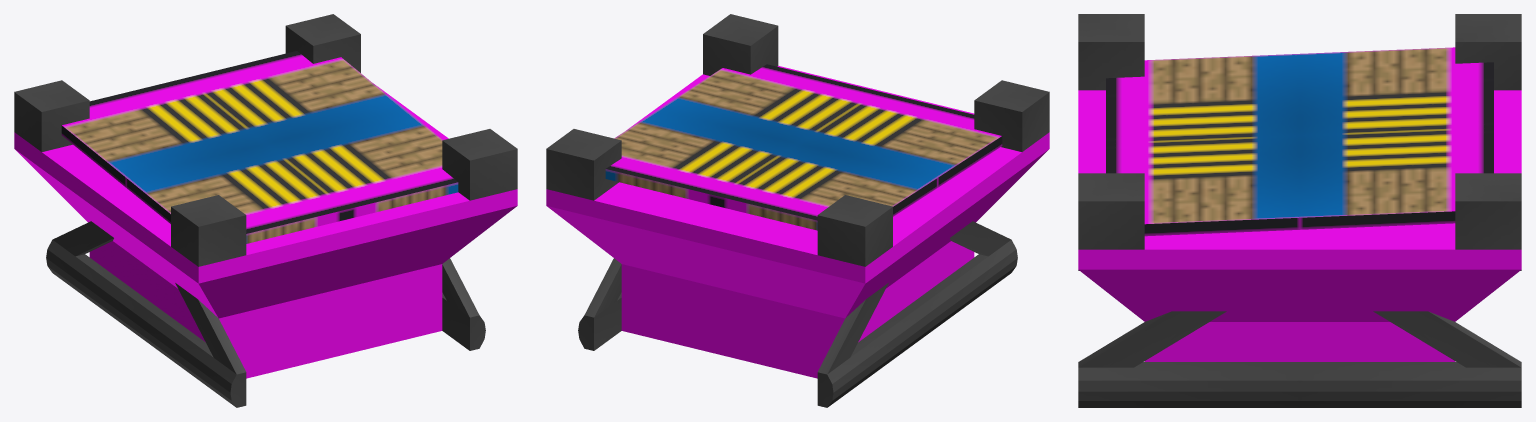
File: conveyor_sieve.obj
3 views of the same model, side by side, from view 1: azimuth 30°, elevation 25°; view 2: azimuth 150°, elevation 25°; view 3: azimuth 270°, elevation 25° (orthographic). The views are drawn at different scales.
Visible parts, largest first — view 1: SieveChute_cscmdl, Sieve_csvmdl, Support_Alu_smdl_alu; view 2: SieveChute_cscmdl, Sieve_csvmdl, Support_Alu_smdl_alu; view 3: SieveChute_cscmdl, Sieve_csvmdl, Support_Alu_smdl_alu.
Boxes of the visible parts, box(x1,y1,x2,y2) form: SieveChute_cscmdl: box(14, 14, 517, 378); Sieve_csvmdl: box(61, 51, 458, 243); Support_Alu_smdl_alu: box(46, 221, 485, 407); SieveChute_cscmdl: box(546, 14, 1049, 378); Sieve_csvmdl: box(605, 64, 1002, 230); Support_Alu_smdl_alu: box(578, 221, 1017, 407); SieveChute_cscmdl: box(1078, 14, 1521, 361); Sieve_csvmdl: box(1106, 47, 1493, 236); Support_Alu_smdl_alu: box(1078, 270, 1521, 407).
Bounding box in the file's own units: 1 × 0.57 × 1.
